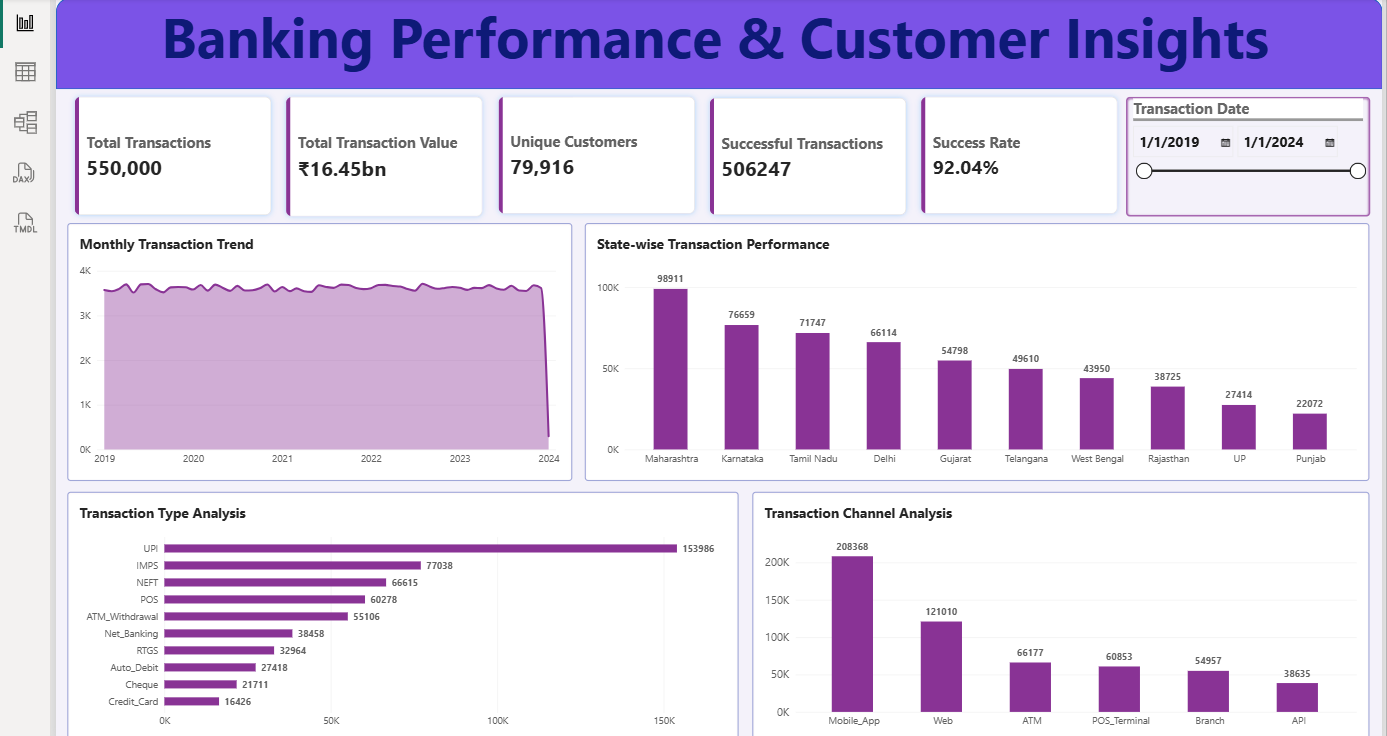

The page's visual inventory and layout, read from the dashboard file:
{"tool":"powerbi","page":{"name":"Page 1","canvas":[1920,1080],"ordinal":0},"visuals":[{"type":"shape","box":[0,0,1920.4,132.2],"z":0},{"type":"textbox","box":[129.5,0,1756.2,114.9],"z":1000},{"type":"cardVisual","fields":{"Data":["Indian Banking Transactions.Total Transactions"]},"box":[16.4,131.3,306.4,193.3],"z":2000},{"type":"cardVisual","fields":{"Data":["Indian Banking Transactions.Total Transaction Value"]},"box":[322.8,131.3,306.4,195.1],"z":3000},{"type":"cardVisual","fields":{"Data":["Indian Banking Transactions.Unique Customers"]},"box":[629.2,131.3,306.4,191.5],"z":4000},{"type":"cardVisual","fields":{"Data":["Indian Banking Transactions.Successful Transactions"]},"box":[935.6,133.1,306.4,191.5],"z":5000},{"type":"cardVisual","fields":{"Data":["Indian Banking Transactions.Success Rate"]},"box":[1241.9,131.3,306.4,191.5],"z":6000},{"type":"lineChart","title":"Monthly Transaction Trend","fields":{"Category":["Indian Banking Transactions.transaction_date.Variation.Date Hierarchy.Year","Indian Banking Transactions.transaction_date.Variation.Date Hierarchy.Month"],"Y":["Indian Banking Transactions.Total Transactions"]},"box":[16.4,326.4,731.3,373.9],"z":7000},{"type":"clusteredBarChart","title":"Transaction Type Analysis","fields":{"Category":["Indian Banking Transactions.transaction_type"],"Y":["Indian Banking Transactions.Total Transactions"]},"box":[16.4,714.9,972,364.7],"z":8000},{"type":"clusteredColumnChart","title":"Transaction Channel Analysis","fields":{"Category":["Indian Banking Transactions.channel"],"Y":["Indian Banking Transactions.Total Transactions"]},"box":[1008.5,714.9,893.6,364.7],"z":9000},{"type":"clusteredColumnChart","title":"State-wise Transaction Performance","fields":{"Category":["Indian Banking Transactions.state"],"Y":["Indian Banking Transactions.Total Transactions"]},"box":[766,326.4,1136.2,373.9],"z":10000},{"type":"slicer","fields":{"Values":["Indian Banking Transactions.transaction_date"]},"box":[1548.3,142.2,353.8,173.3],"z":11000}]}

Visuals, with their boxes on the page's 1920x1080 design canvas (x1, y1, x2, y2). These are canvas units, not pixel positions in the 1387x736 screenshot, which may show the page scaled, cropped or inside an application window:
shape: 0 0 1920 132
textbox: 130 0 1886 115
cardVisual - Indian Banking Transactions.Total Transactions: 16 131 323 325
cardVisual - Indian Banking Transactions.Total Transaction Value: 323 131 629 326
cardVisual - Indian Banking Transactions.Unique Customers: 629 131 936 323
cardVisual - Indian Banking Transactions.Successful Transactions: 936 133 1242 325
cardVisual - Indian Banking Transactions.Success Rate: 1242 131 1548 323
"Monthly Transaction Trend" lineChart: 16 326 748 700
"Transaction Type Analysis" clusteredBarChart: 16 715 988 1080
"Transaction Channel Analysis" clusteredColumnChart: 1008 715 1902 1080
"State-wise Transaction Performance" clusteredColumnChart: 766 326 1902 700
slicer - Indian Banking Transactions.transaction_date: 1548 142 1902 316
